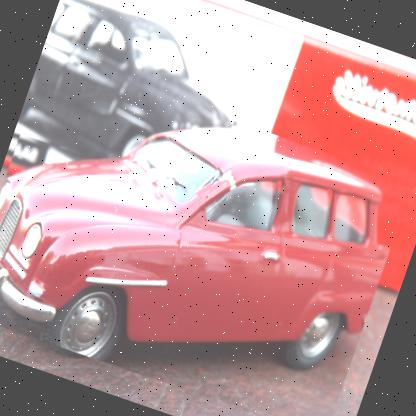Car: (0, 56, 414, 415), (14, 0, 257, 200)
